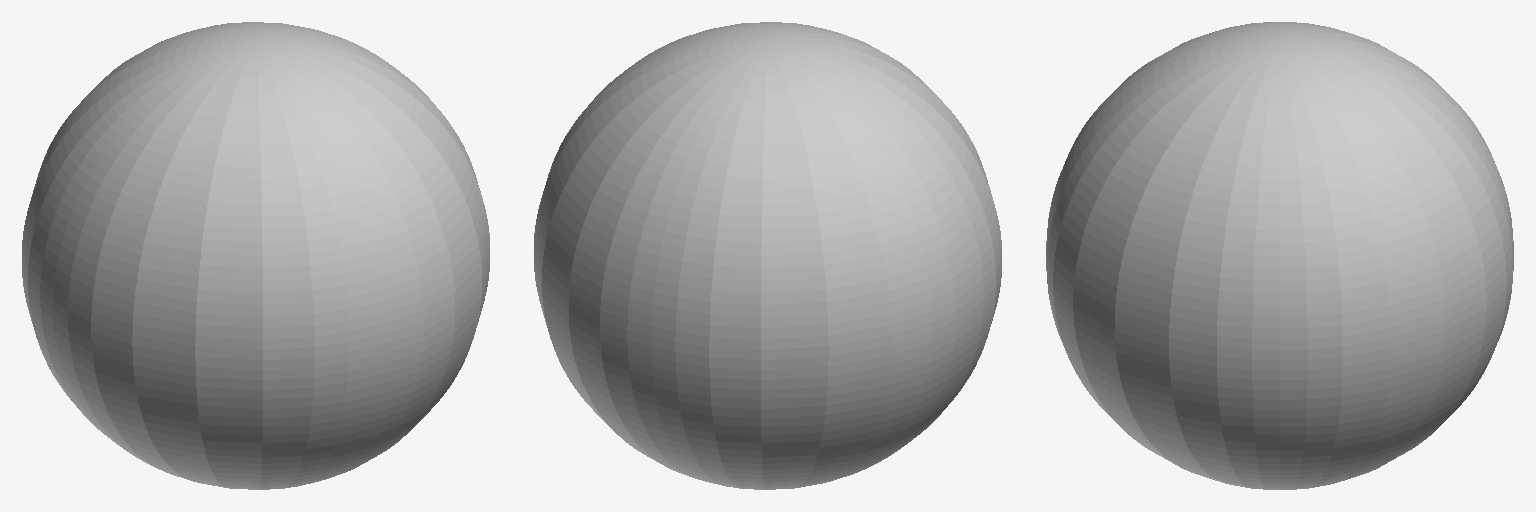
Rendered from ball.obj.
The picture shows the model from 3 angles: view 1: azimuth 30°, elevation 25°; view 2: azimuth 150°, elevation 25°; view 3: azimuth 270°, elevation 25°; orthographic projection.
Parts seen in each view (by area): view 1: SurfSphere; view 2: SurfSphere; view 3: SurfSphere.
Part boxes in pixels (x1,y1,x2,y2): SurfSphere: (22, 22, 489, 489); SurfSphere: (534, 22, 1001, 489); SurfSphere: (1046, 22, 1513, 489).
Bounding box in the file's own units: 2 × 2 × 2.